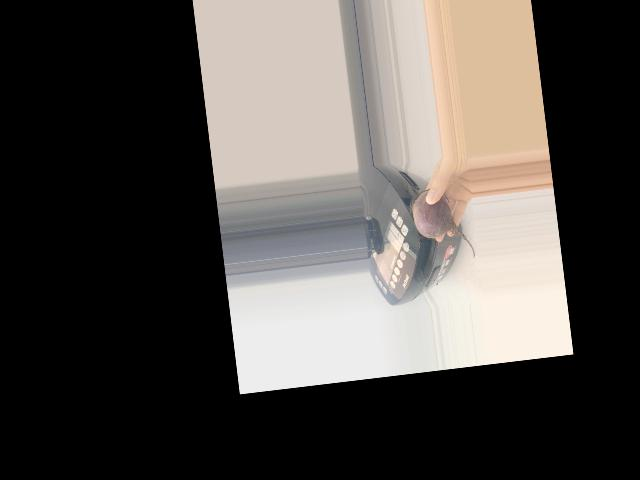beet: (408, 185, 475, 265)
